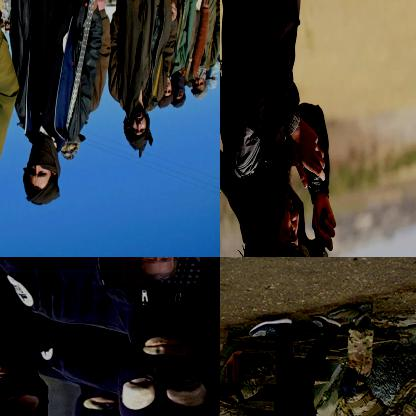rifle: (220, 5, 401, 256), (0, 257, 205, 366)
